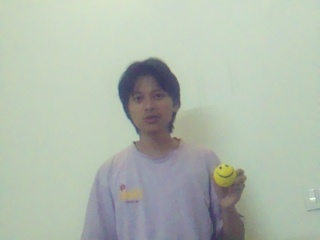ball: (212, 164, 236, 187)
